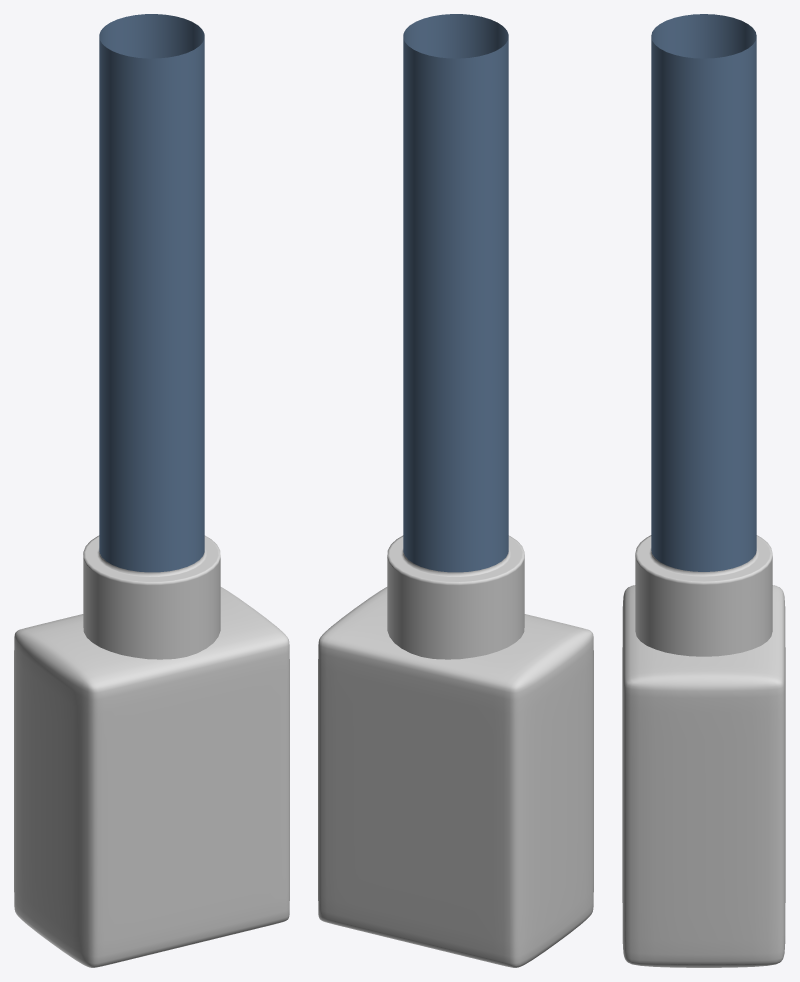
Rendered from oxygen.glb.
3 views of the same model, side by side, from view 1: azimuth 30°, elevation 25°; view 2: azimuth 150°, elevation 25°; view 3: azimuth 270°, elevation 25° (orthographic).
Visible parts, largest first — view 1: OxygenVendor; view 2: OxygenVendor; view 3: OxygenVendor.
Boxes of the visible parts, x1,y1,x2,y2 form: OxygenVendor: (14,14,289,967); OxygenVendor: (318,14,593,967); OxygenVendor: (622,14,785,967).
Size of the model in its own units: 1.49 by 6 by 1.
